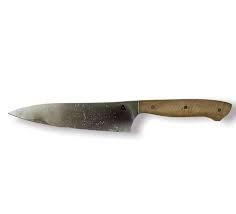Knife: (7, 98, 232, 133)
